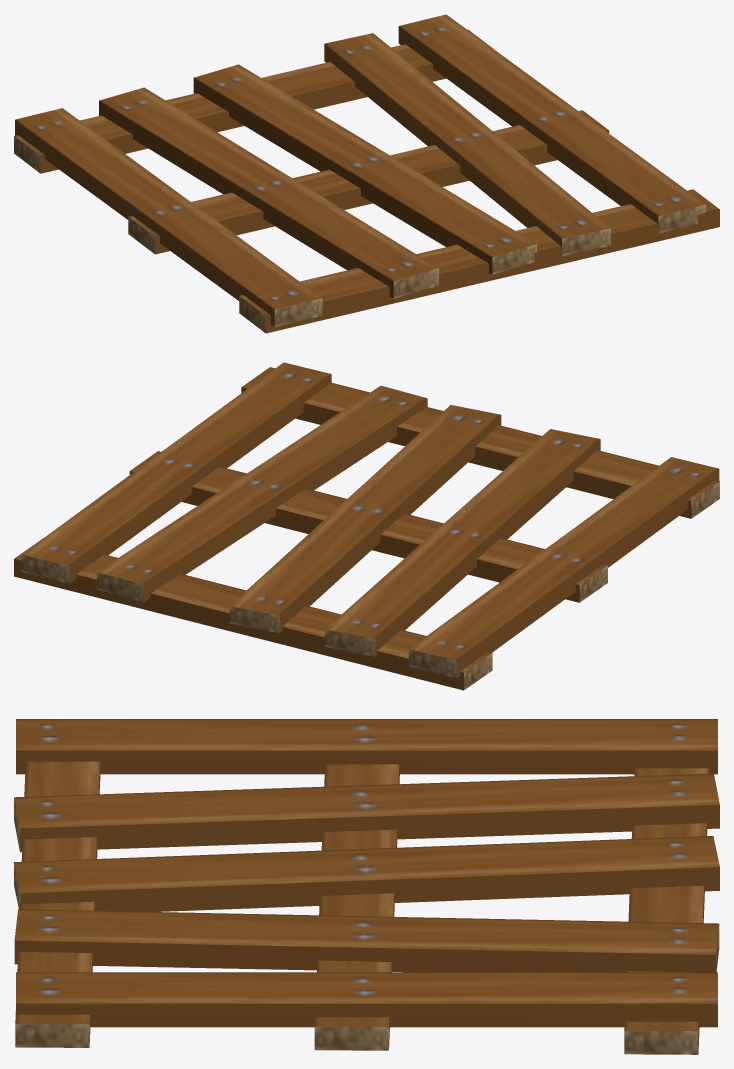
Rendered from prop8.FBX.
3 views of the same model, one above another, from view 1: azimuth 30°, elevation 25°; view 2: azimuth 150°, elevation 25°; view 3: azimuth 270°, elevation 25° (orthographic). The views are drawn at different scales.
Visible parts, largest first — view 1: Box003; view 2: Box003; view 3: Box003.
Boxes of the visible parts, x1=… form: Box003: x1=14, y1=14, x2=719, y2=333; Box003: x1=14, y1=362, x2=719, y2=690; Box003: x1=14, y1=719, x2=719, y2=1054.
Bounding box in the file's own units: 59.42 × 3.88 × 59.65.
